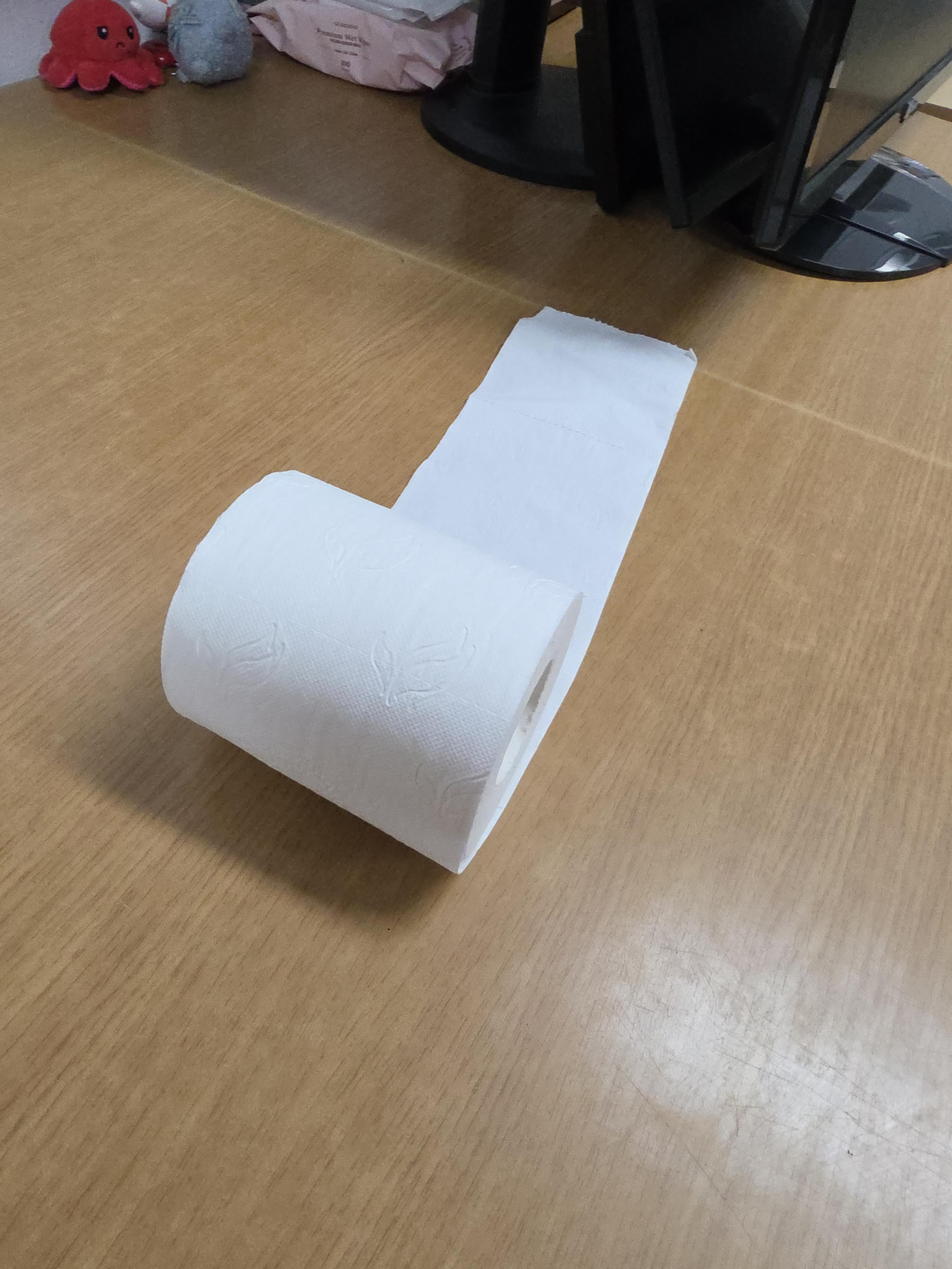tissue: (159, 309, 704, 883)
